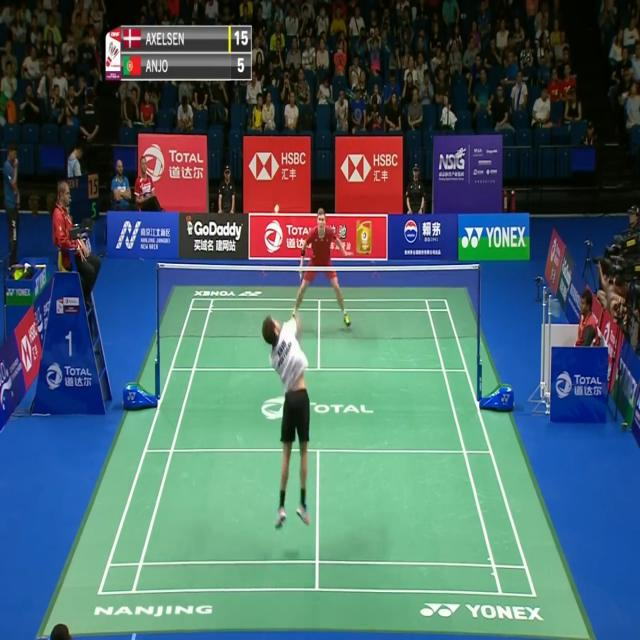Player1: (260, 297, 315, 534)
Player2: (289, 202, 357, 337)
